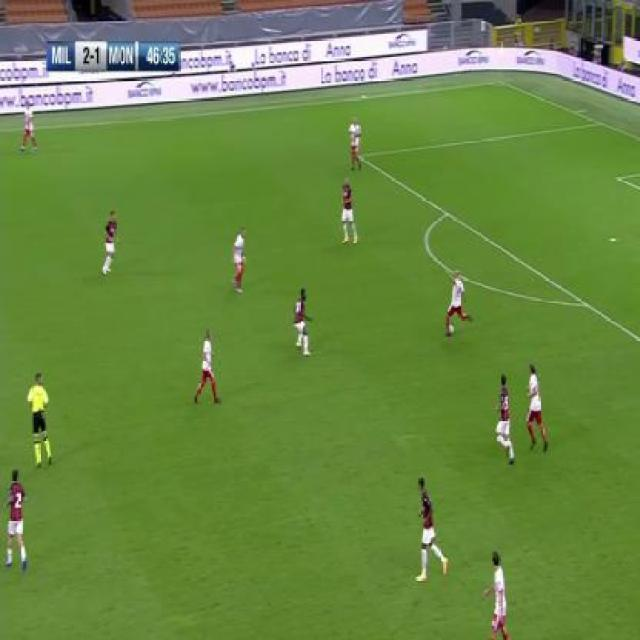player: (413, 476, 449, 584), (27, 368, 56, 470), (3, 464, 29, 572), (483, 550, 511, 639), (524, 362, 550, 453), (494, 373, 517, 469), (193, 329, 221, 406), (445, 266, 473, 334), (292, 286, 315, 359), (340, 175, 359, 249), (99, 209, 119, 277), (229, 226, 248, 297), (19, 98, 38, 155), (348, 115, 364, 174)
